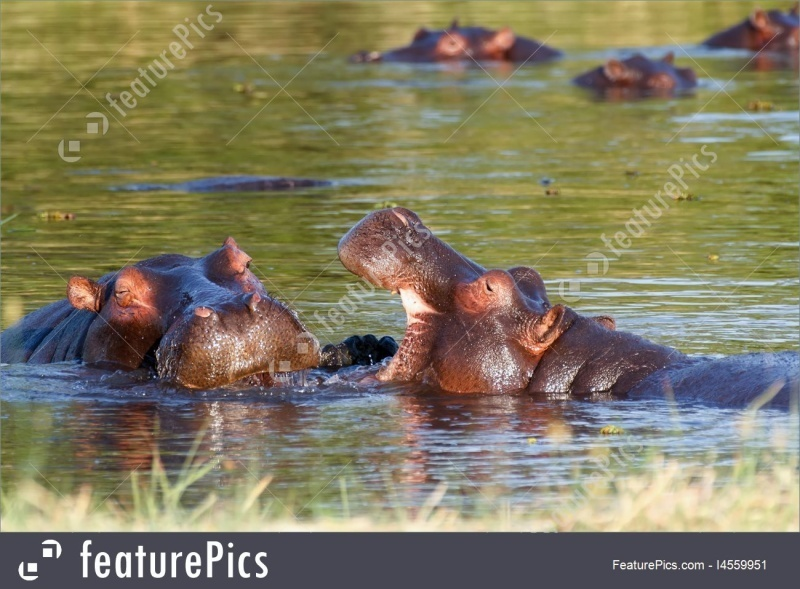hipopotamo: (323, 201, 800, 427), (1, 225, 321, 404), (329, 6, 565, 108), (559, 33, 708, 118), (702, 1, 800, 56)
